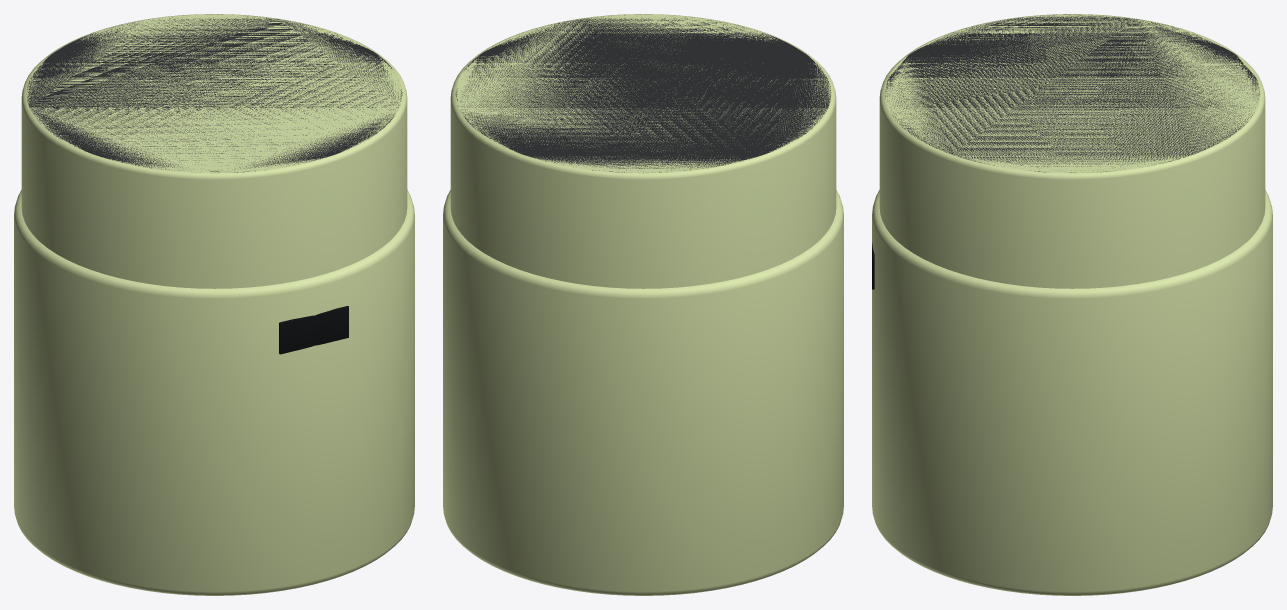
File: HW300DBL.glb
3 renders of one model, left to right at view 1: azimuth 30°, elevation 25°; view 2: azimuth 150°, elevation 25°; view 3: azimuth 270°, elevation 25°, orthographic.
Parts seen in each view (by area): view 1: HW300DBL; view 2: HW300DBL; view 3: HW300DBL.
Boxes of the visible parts, x1,y1,x2,y2 form: HW300DBL: (14,14,414,595); HW300DBL: (443,14,843,595); HW300DBL: (872,14,1272,595).
Bounding box in the file's own units: 0.32 × 0.37 × 0.32.
